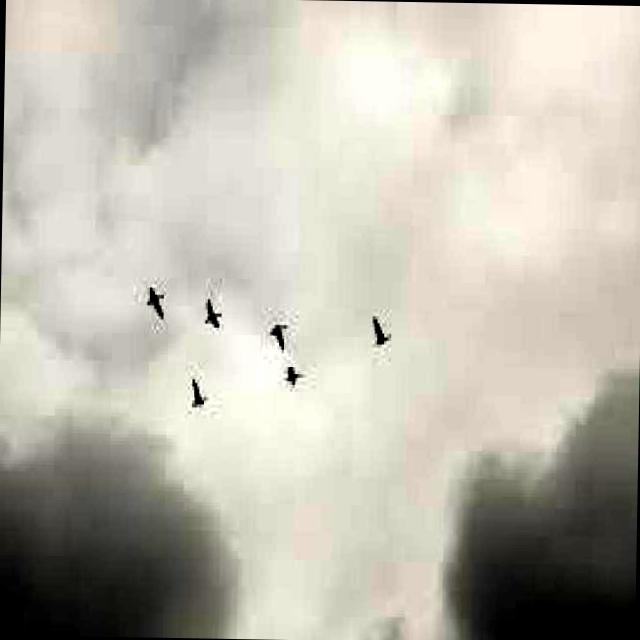bird: (135, 266, 176, 337), (176, 288, 234, 338), (264, 292, 300, 368), (361, 310, 398, 367), (281, 348, 317, 402), (186, 368, 218, 425)
